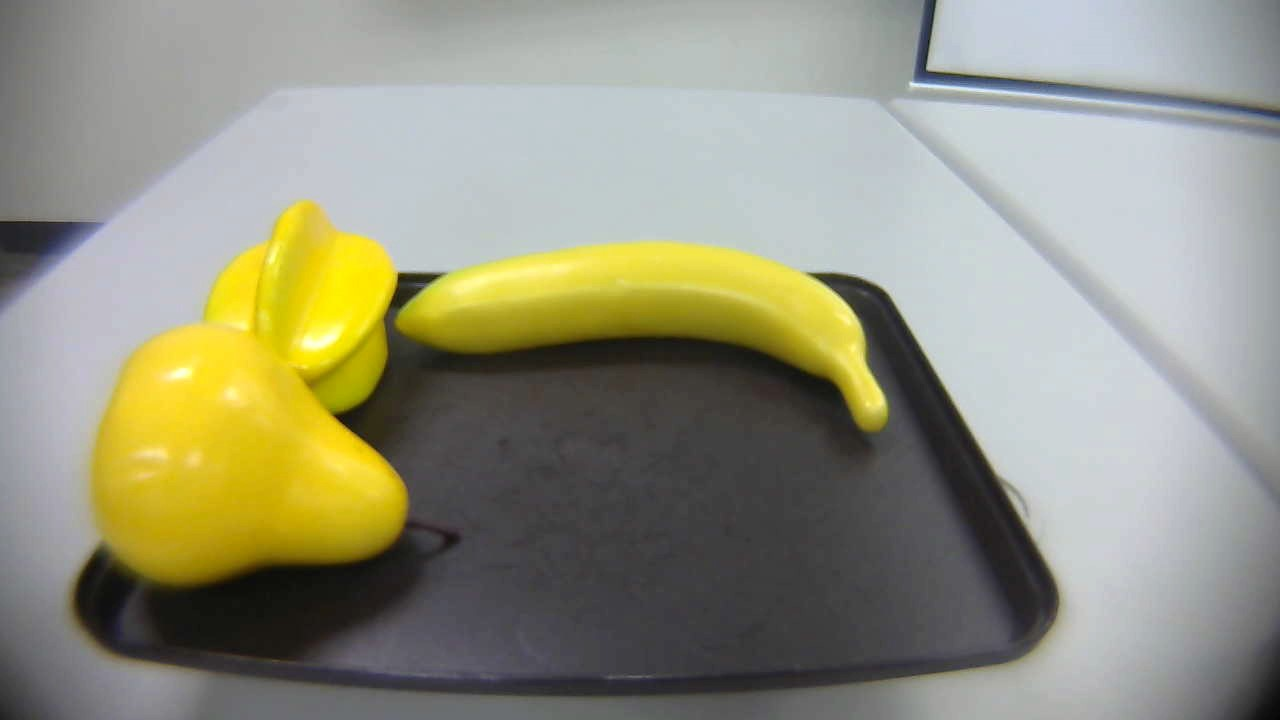banana: (389, 237, 924, 460)
star fruit: (199, 202, 396, 420)
yellow pear: (91, 322, 492, 586)
